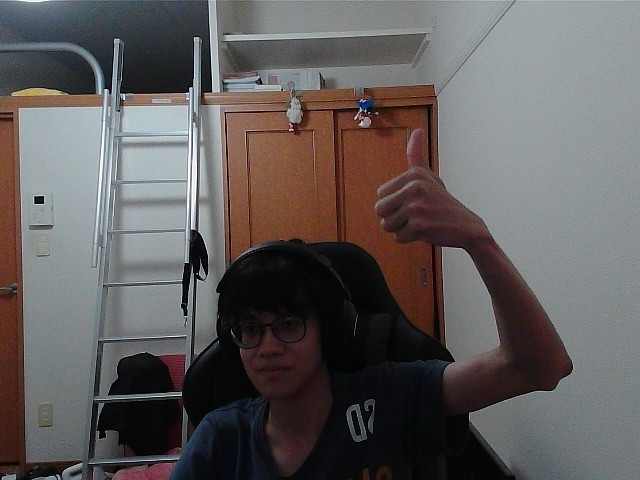thumb_up: (382, 136, 464, 236)
